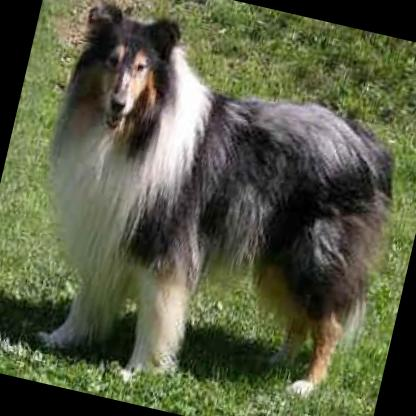collie: (7, 0, 416, 408)
